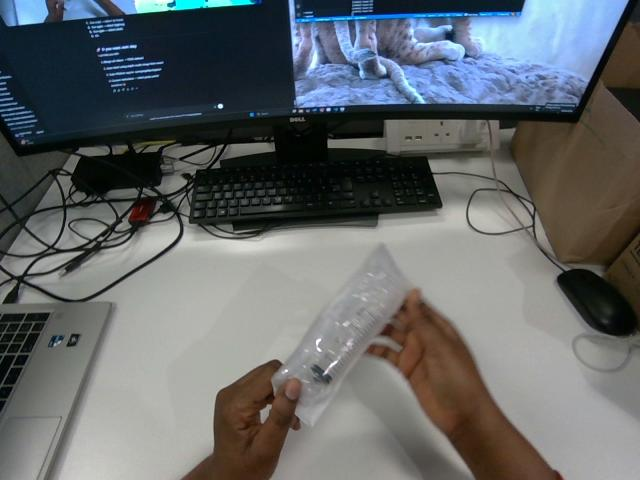syringe: (272, 245, 410, 425)
